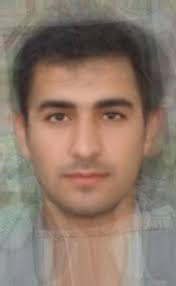middle_eastern_male: (22, 41, 152, 215)
